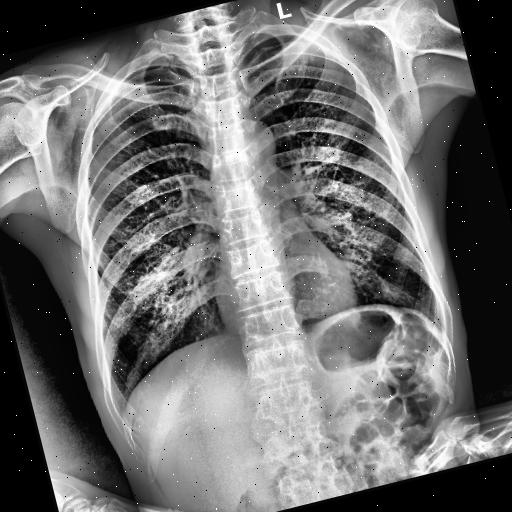0- Aortic enlargement: (222, 112, 280, 173)
5- ILD: (89, 194, 225, 358), (290, 104, 410, 288), (90, 202, 214, 366), (306, 147, 418, 305), (94, 216, 198, 362), (301, 144, 409, 268)
